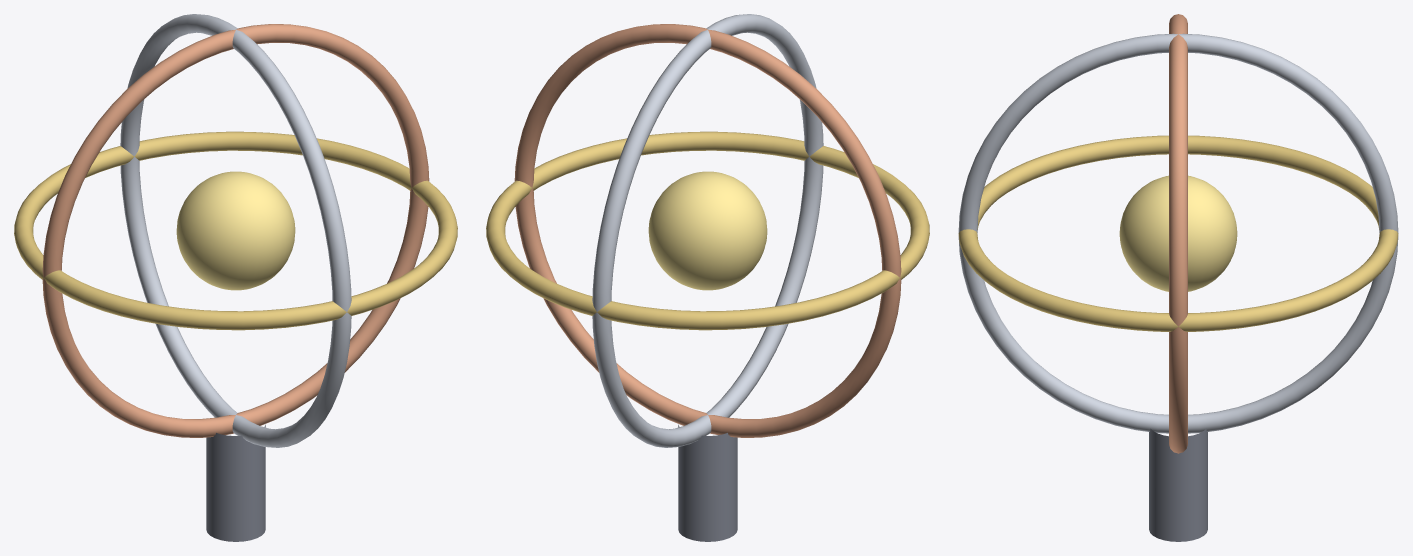
File: armillary.glb
3 views of the same model, side by side, from view 1: azimuth 30°, elevation 25°; view 2: azimuth 150°, elevation 25°; view 3: azimuth 270°, elevation 25° (orthographic).
Parts seen in each view (by area): view 1: meridian, colure, equator, core, stand; view 2: meridian, colure, equator, core, stand; view 3: colure, equator, core, meridian, stand.
Part boxes in pixels (x1,y1,x2,y2): meridian: [42, 24, 429, 437]; colure: [120, 14, 351, 447]; equator: [14, 131, 457, 330]; core: [176, 171, 295, 290]; stand: [206, 424, 265, 541]; meridian: [514, 24, 901, 437]; colure: [592, 14, 823, 447]; equator: [486, 131, 929, 330]; core: [648, 171, 767, 290]; stand: [678, 424, 737, 541]; colure: [958, 33, 1398, 433]; equator: [958, 135, 1398, 331]; core: [1119, 175, 1237, 291]; meridian: [1169, 14, 1187, 453]; stand: [1149, 428, 1207, 541].
Bounding box in the file's own units: 2.09 × 2.59 × 2.09.
